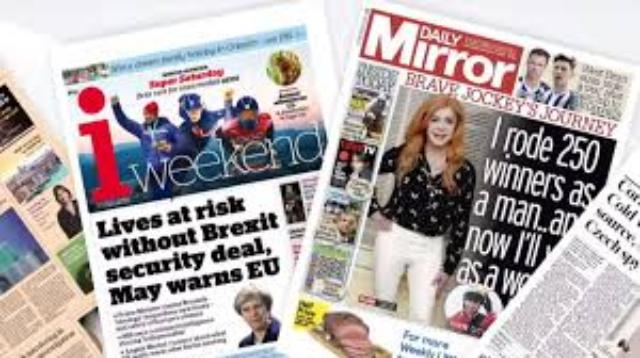cardboard paper: (275, 1, 640, 358), (48, 0, 338, 358)
